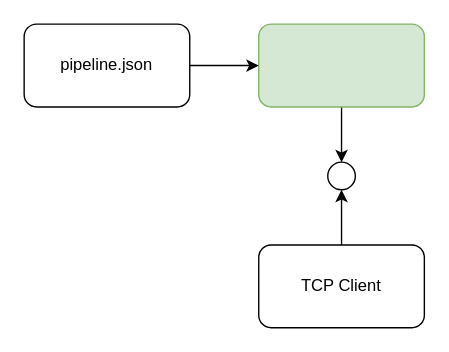
This 449x352 diagram has some shape labels left out. Each missing label, with the centre of its shape:
"gst-pipeline-launch" belongs at (x=340, y=65).
"TCP Socket" belongs at (x=340, y=175).
